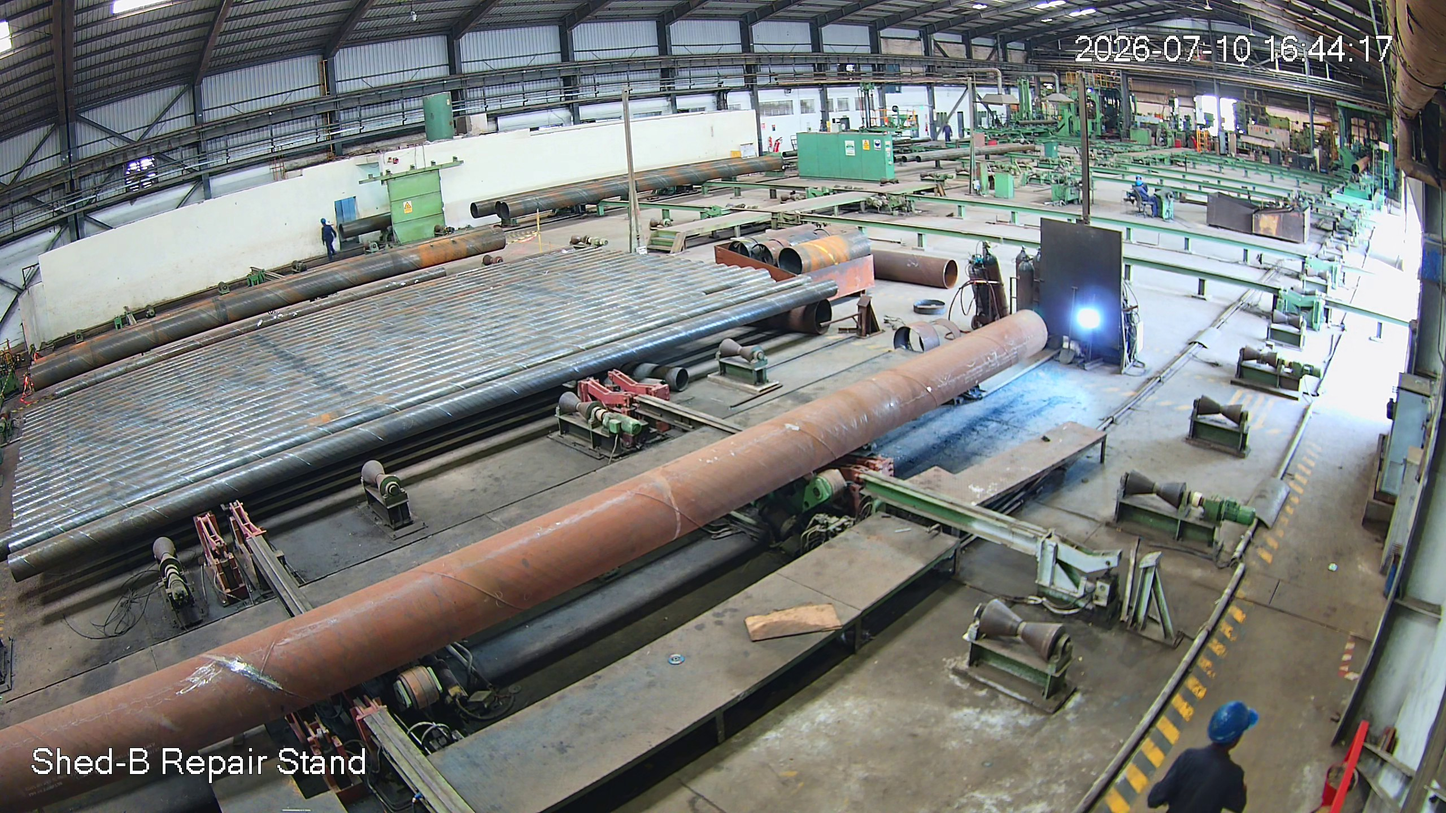Helmet: (1205, 682, 1277, 763)
Person: (1134, 693, 1285, 813)
